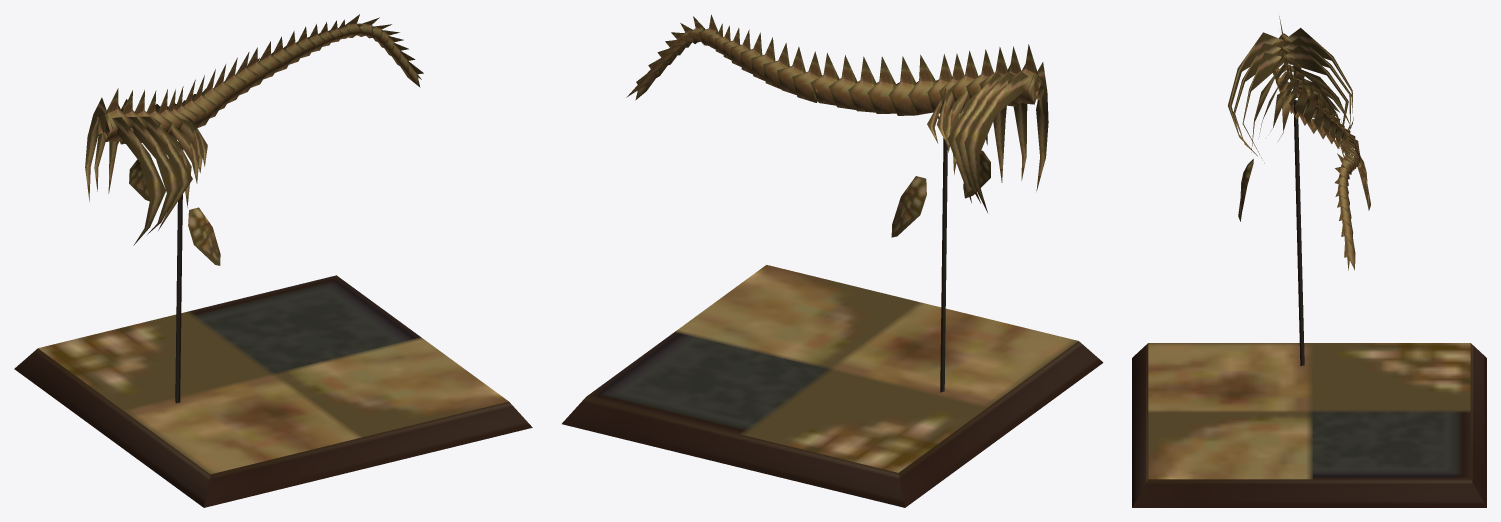
The model's file is int_din_iku_b.dae.
3 renders of one model, left to right at view 1: azimuth 30°, elevation 25°; view 2: azimuth 150°, elevation 25°; view 3: azimuth 270°, elevation 25°, orthographic. The views are drawn at different scales.
Visible parts, largest first — view 1: int_din_iku_b; view 2: int_din_iku_b; view 3: int_din_iku_b.
Boxes of the visible parts, box(x1,y1,x2,y2) form: int_din_iku_b: box(14, 14, 532, 507); int_din_iku_b: box(562, 14, 1103, 507); int_din_iku_b: box(1132, 16, 1486, 507).
Size of the model in its own units: 63.67 by 62.14 by 58.65.
1 material, 1 textured.
